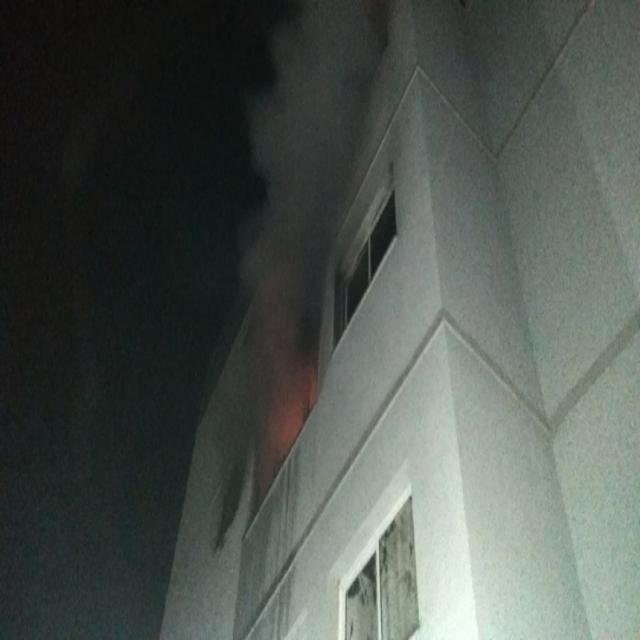Fire: (248, 355, 318, 516)
Smoke: (222, 1, 386, 344)
